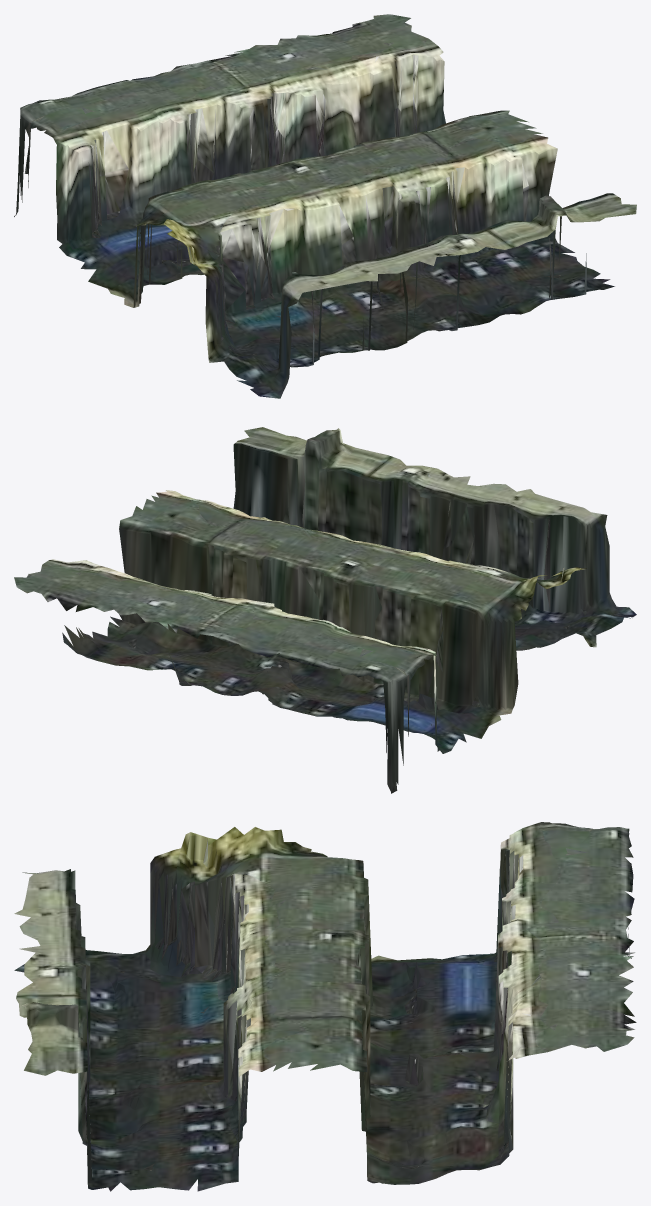
File: Tile_001_000_L14_423.glb
3 views of the same model, one above another, from view 1: azimuth 30°, elevation 25°; view 2: azimuth 150°, elevation 25°; view 3: azimuth 270°, elevation 25° (orthographic). The views are drawn at different scales.
Visible parts, largest first — view 1: rtc; view 2: rtc; view 3: rtc.
Part boxes in pixels (box(x1,y1,x2,y2)): rtc: box(14, 14, 636, 398); rtc: box(14, 427, 636, 793); rtc: box(14, 822, 636, 1191).
Size of the model in its own units: 63.77 by 18.85 by 70.24.
1 material, 1 textured.
